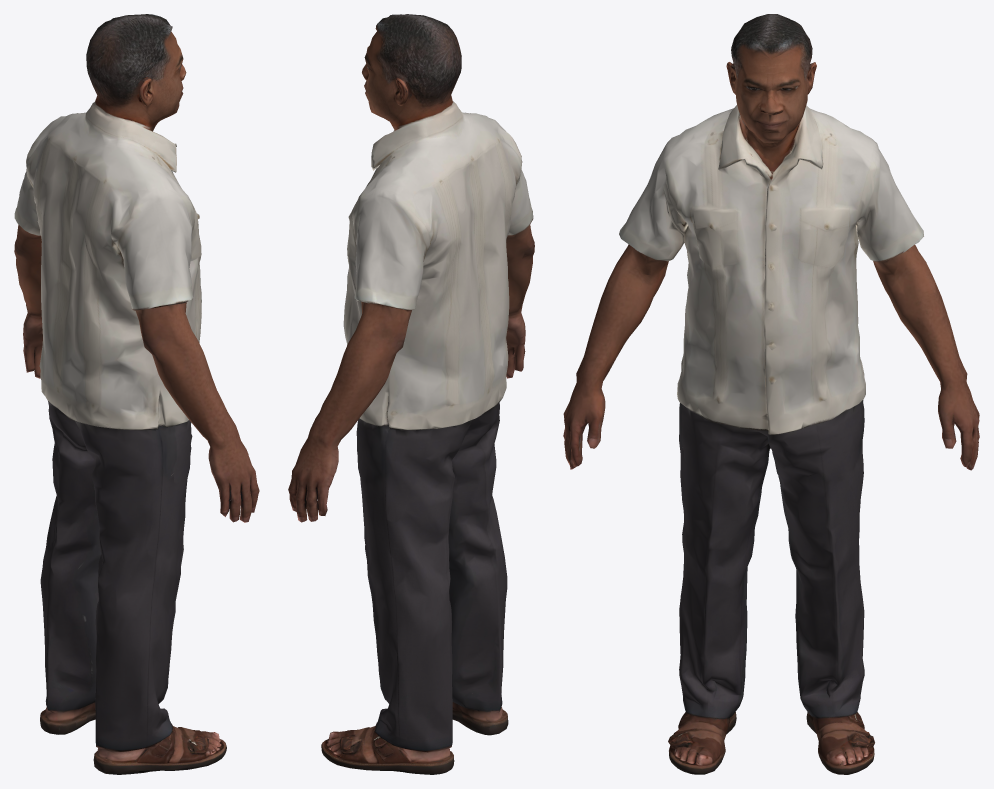
Rendered from chelo.glb.
The picture shows the model from 3 angles, left to right: view 1: azimuth 30°, elevation 25°; view 2: azimuth 150°, elevation 25°; view 3: azimuth 270°, elevation 25°; orthographic projection.
Visible parts, largest first — view 1: tripo_node_e505cd94-e247-4c91-b5aa-0c60ef1c55d8; view 2: tripo_node_e505cd94-e247-4c91-b5aa-0c60ef1c55d8; view 3: tripo_node_e505cd94-e247-4c91-b5aa-0c60ef1c55d8.
Part boxes in pixels (bbox=[...]): tripo_node_e505cd94-e247-4c91-b5aa-0c60ef1c55d8: bbox=[14, 14, 259, 774]; tripo_node_e505cd94-e247-4c91-b5aa-0c60ef1c55d8: bbox=[288, 14, 534, 774]; tripo_node_e505cd94-e247-4c91-b5aa-0c60ef1c55d8: bbox=[563, 14, 979, 774].
Size of the model in its own units: 0.364 by 1.8 by 0.9305.
1 material, 1 textured.
